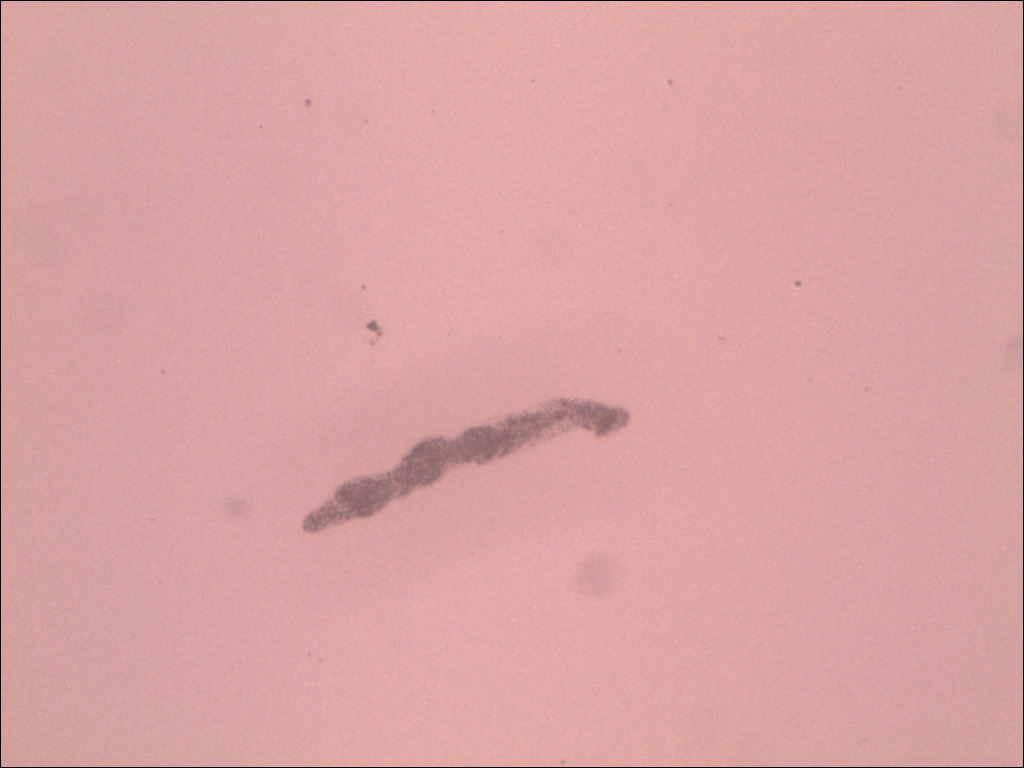amoeba: (298, 391, 638, 543)
